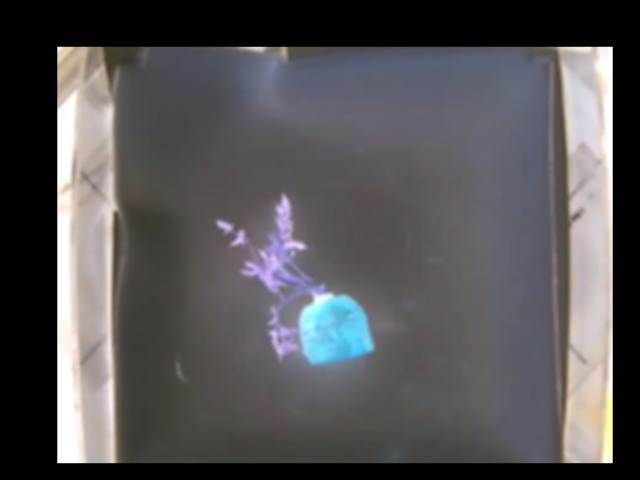Carrot: (216, 192, 373, 365)
